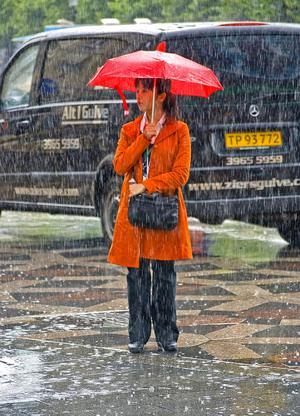person: (107, 79, 194, 353)
